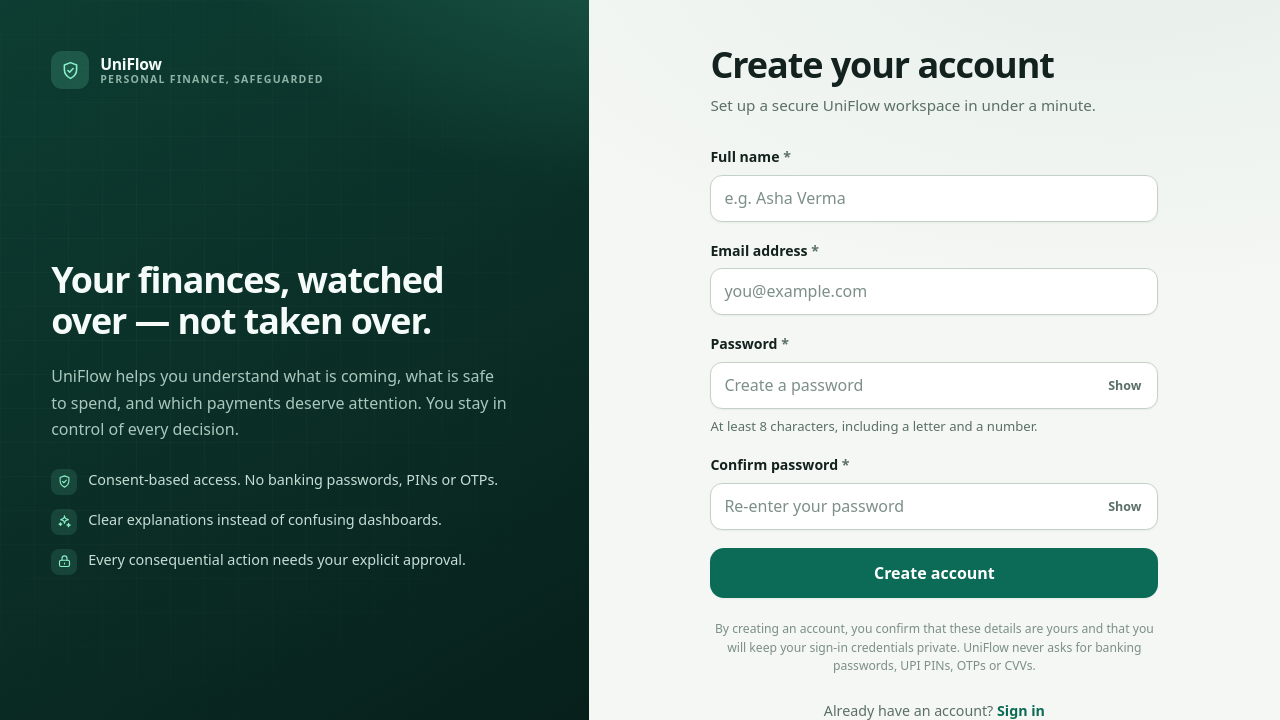
it: registration form › shows understandable validation messages
Click the button "Create account". click: {"x": 934, "y": 573}
box: 710,548 -> 1158,598
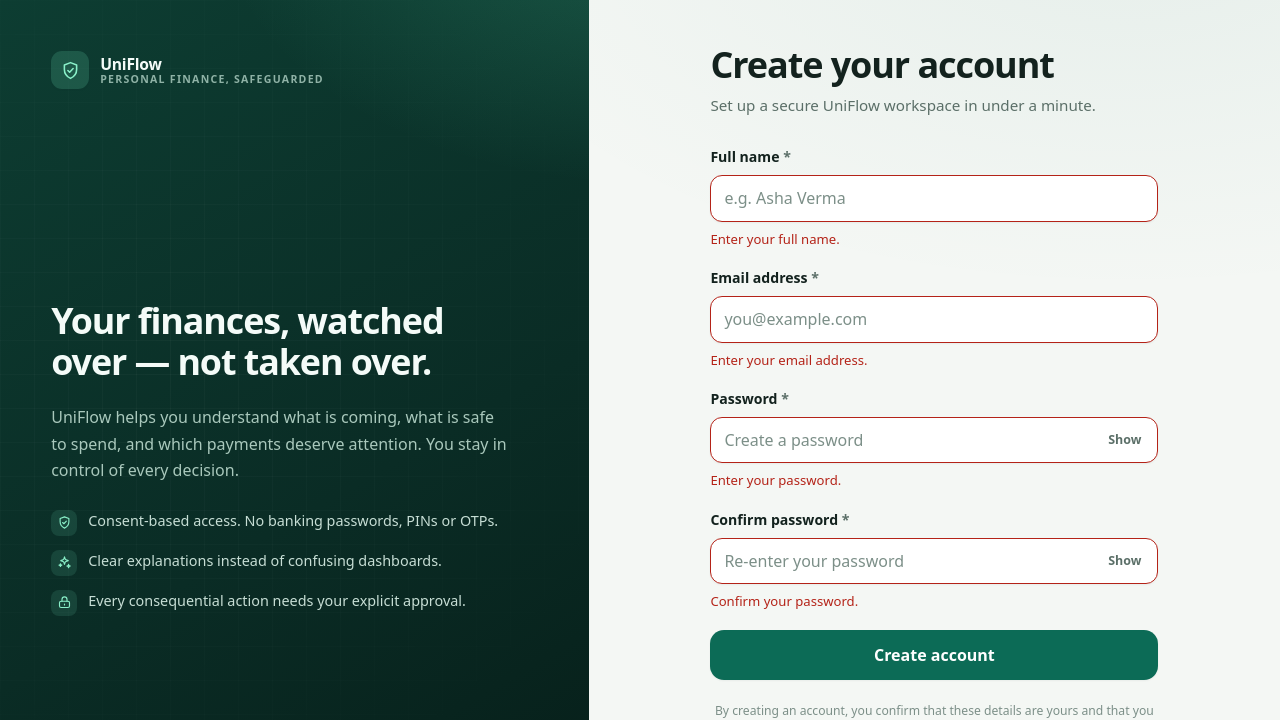
expect the text "Enter your full name." is shown: met, box 710,230 -> 840,248
expect the text "Enter your email address." is shown: met, box 710,350 -> 868,368
expect the text "Enter your password." is shown: met, box 710,472 -> 841,490
